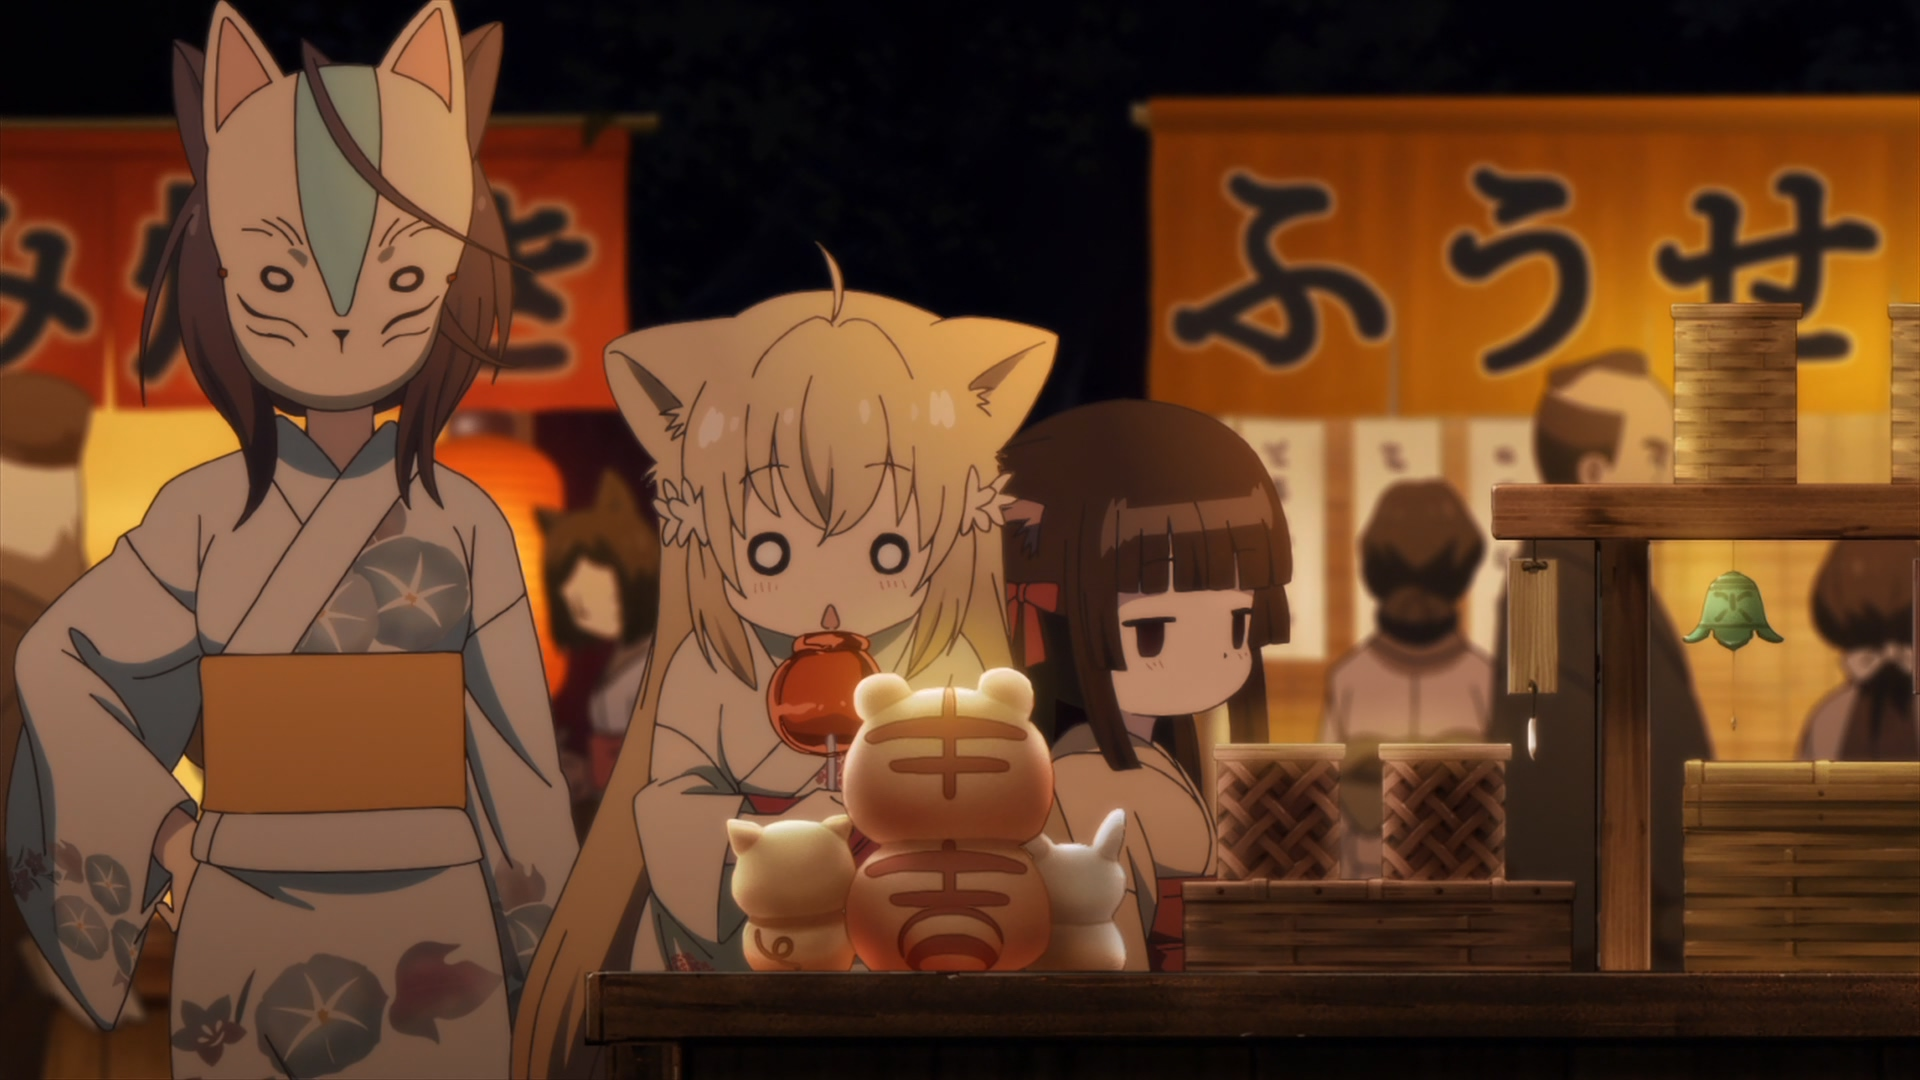其他: (1491, 345, 1713, 969), (534, 472, 662, 822), (1320, 477, 1486, 737), (1797, 541, 1920, 762)
柚: (509, 243, 1072, 1080)
樱: (998, 401, 1292, 963)
皋: (1, 1, 582, 1080)
